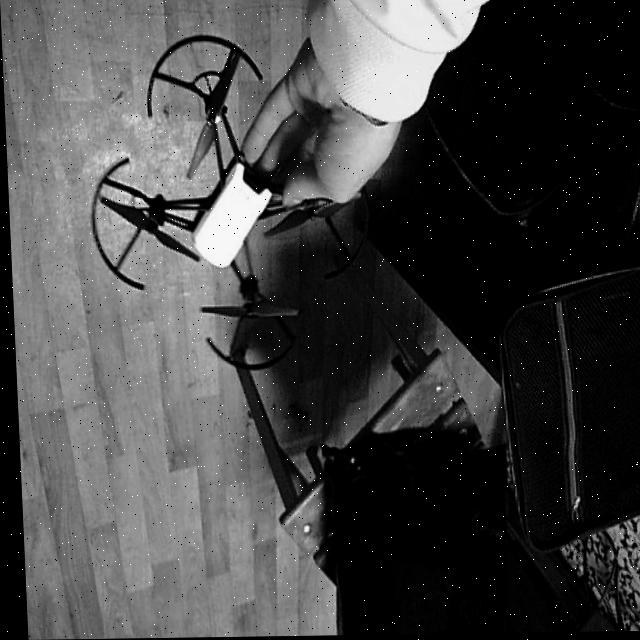drone: (74, 32, 380, 367)
